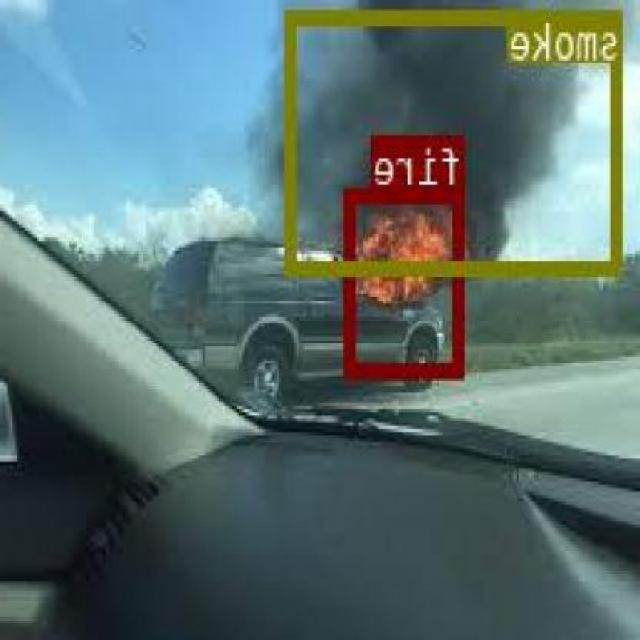fire: (348, 188, 466, 374)
smoke: (288, 6, 626, 271)
